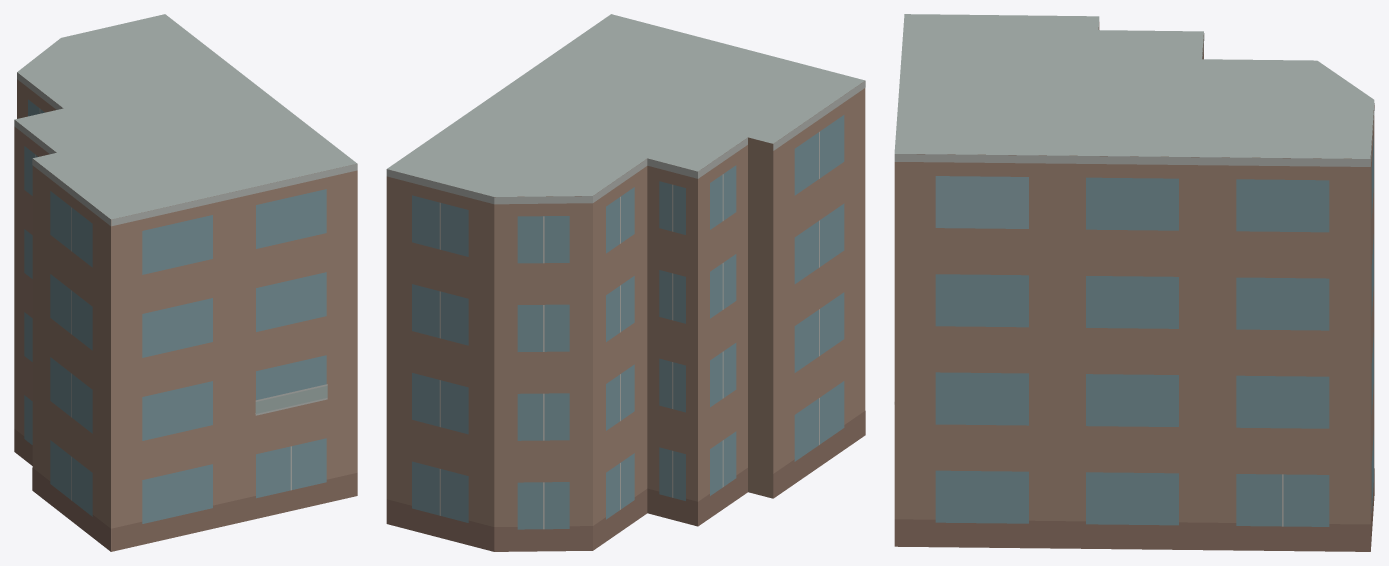
File: survey-upis-32705362.glb
The picture shows the model from 3 angles, left to right: view 1: azimuth 30°, elevation 25°; view 2: azimuth 150°, elevation 25°; view 3: azimuth 270°, elevation 25°; orthographic projection. The views are drawn at different scales.
Visible parts, largest first — view 1: survey-upis-32705362.tmp; view 2: survey-upis-32705362.tmp; view 3: survey-upis-32705362.tmp.
Boxes of the visible parts, x1,y1,x2,y2 form: survey-upis-32705362.tmp: (14,14,357,551); survey-upis-32705362.tmp: (386,14,865,551); survey-upis-32705362.tmp: (894,14,1374,551).
Size of the model in its own units: 9.43 by 11.9 by 13.19.
